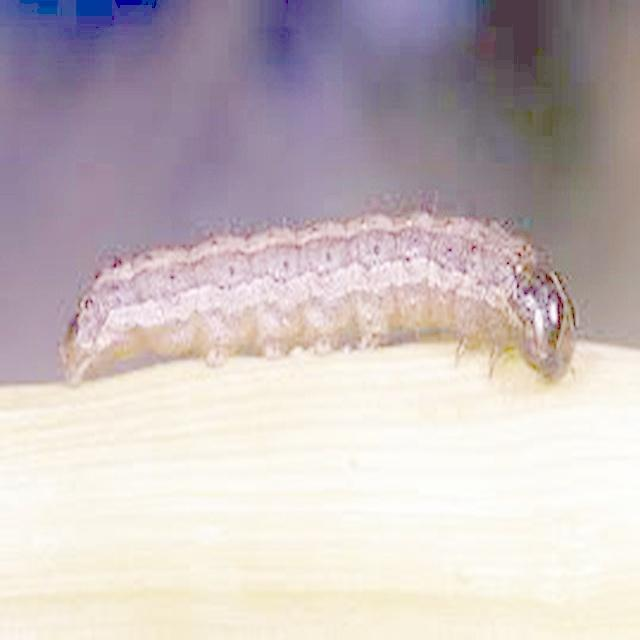gusano_cogollero: (54, 195, 591, 395)
